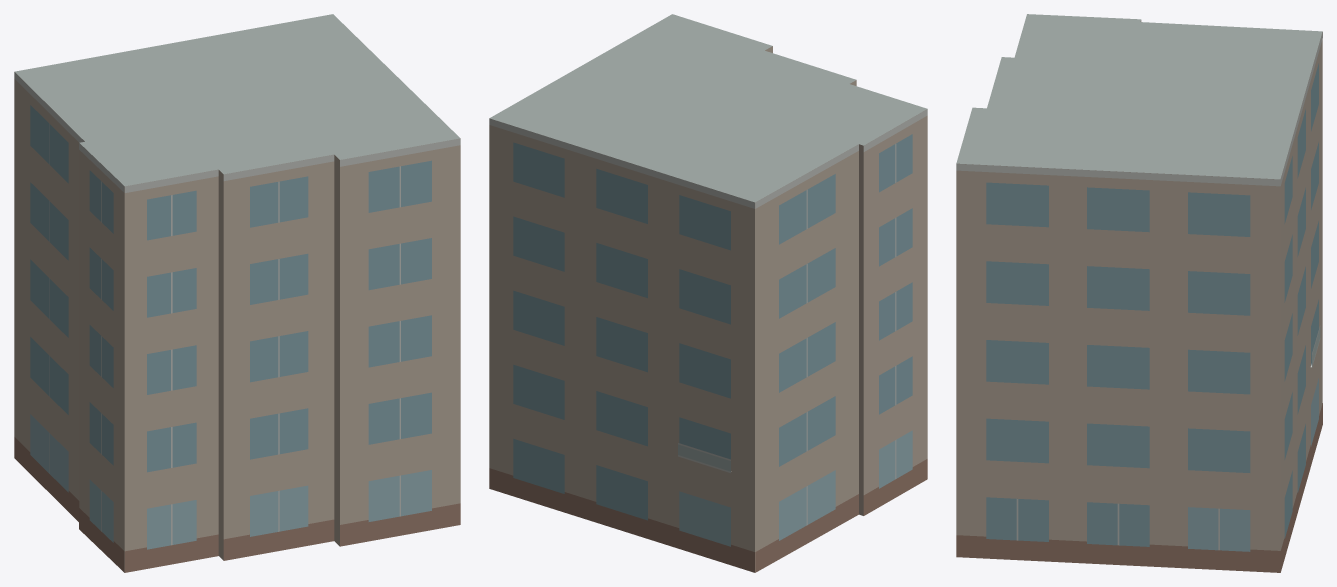
The model's file is survey-upis-32653216.glb.
The picture shows the model from 3 angles, left to right: view 1: azimuth 30°, elevation 25°; view 2: azimuth 150°, elevation 25°; view 3: azimuth 270°, elevation 25°; orthographic projection. The views are drawn at different scales.
Visible parts, largest first — view 1: survey-upis-32653216.tmp; view 2: survey-upis-32653216.tmp; view 3: survey-upis-32653216.tmp.
Part boxes in pixels (x1,y1,x2,y2): survey-upis-32653216.tmp: (14,14,460,572); survey-upis-32653216.tmp: (489,14,927,572); survey-upis-32653216.tmp: (956,14,1322,572).
Size of the model in its own units: 12.45 by 13.8 by 11.66.
